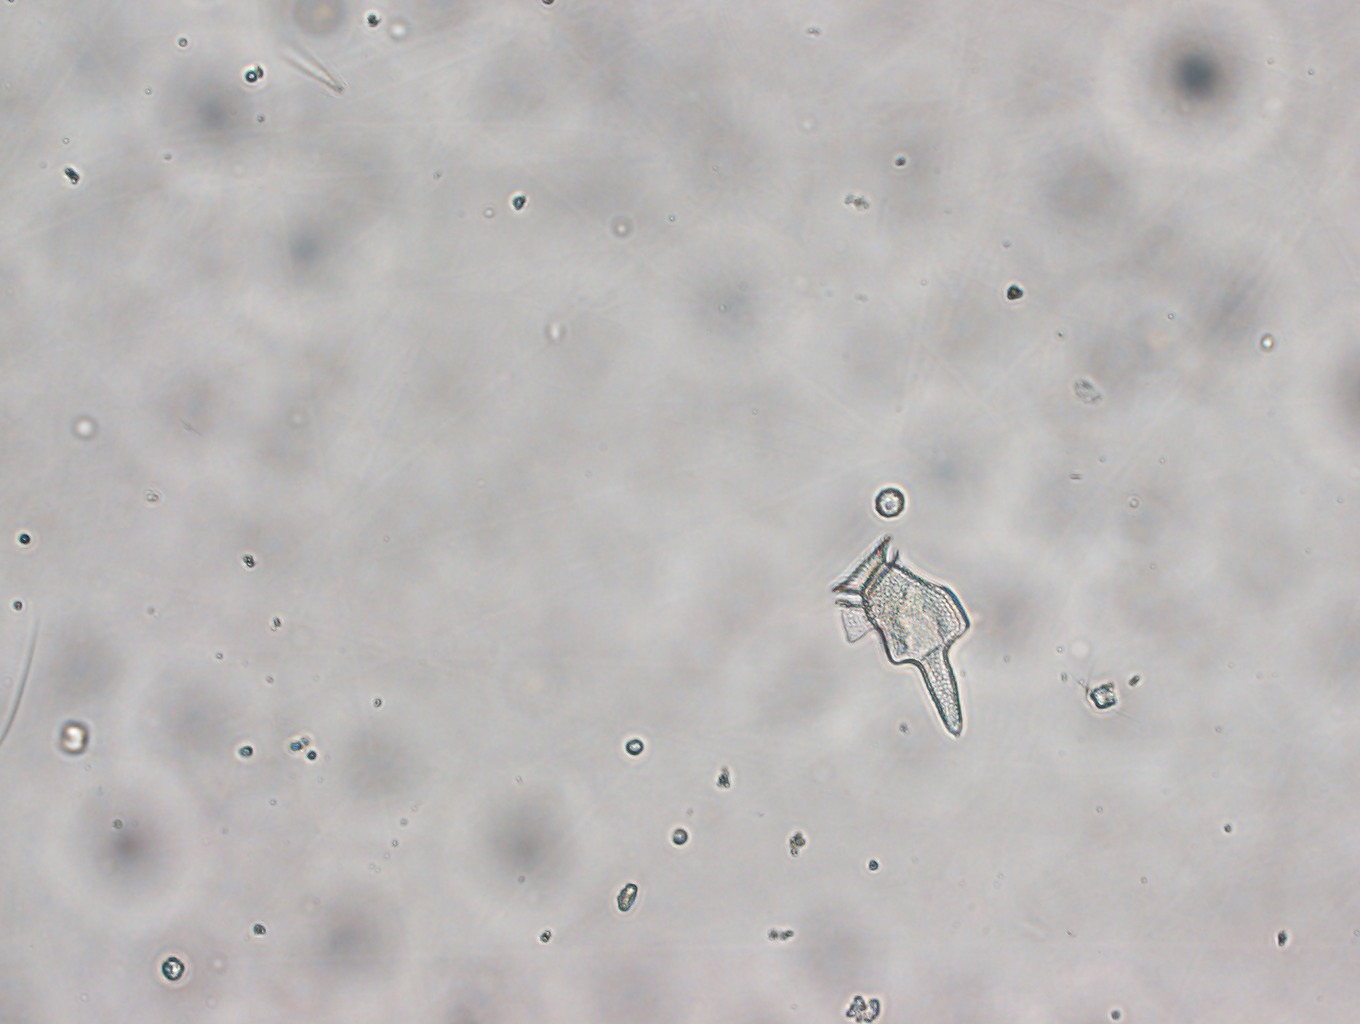dinophysis caudata: (831, 536, 971, 741)
